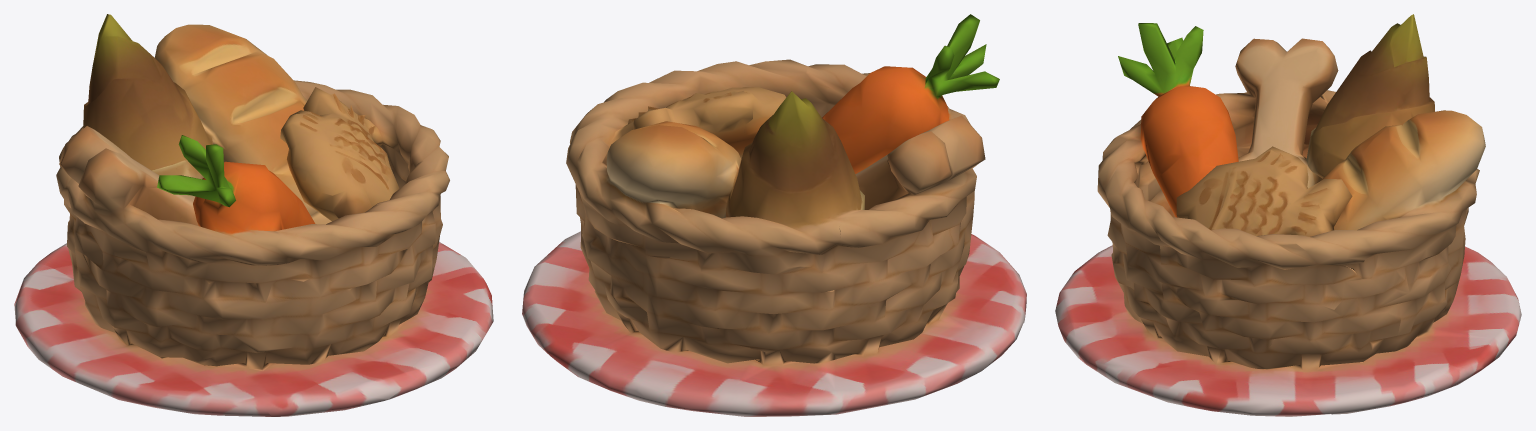
Rendered from picnic.glb.
The picture shows the model from 3 angles, left to right: view 1: azimuth 30°, elevation 25°; view 2: azimuth 150°, elevation 25°; view 3: azimuth 270°, elevation 25°; orthographic projection. The views are drawn at different scales.
Visible parts, largest first — view 1: tripo_node_5971e299-f358-4306-91cd-2411fc346489; view 2: tripo_node_5971e299-f358-4306-91cd-2411fc346489; view 3: tripo_node_5971e299-f358-4306-91cd-2411fc346489.
Boxes of the visible parts, box(x1,y1,x2,y2) form: tripo_node_5971e299-f358-4306-91cd-2411fc346489: box(14, 14, 493, 416); tripo_node_5971e299-f358-4306-91cd-2411fc346489: box(522, 14, 1026, 416); tripo_node_5971e299-f358-4306-91cd-2411fc346489: box(1055, 14, 1521, 416).
Bounding box in the file's own units: 1 × 0.6416 × 0.9998.
Materials: 1 (1 with a texture image).
